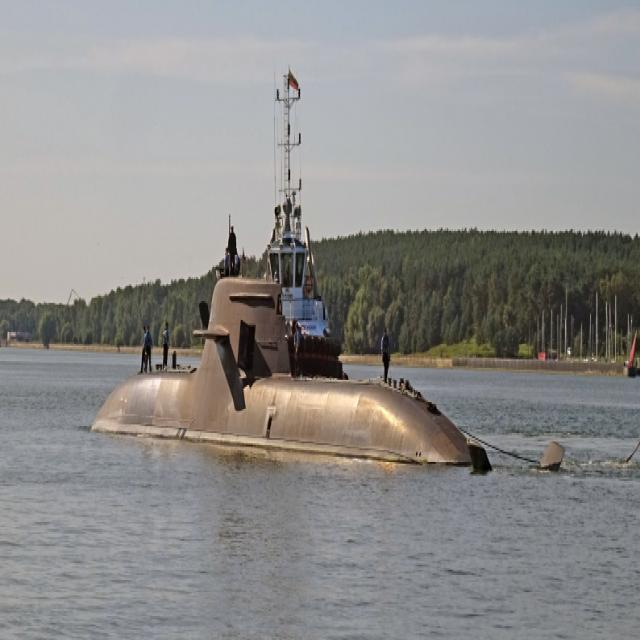submarine: (94, 277, 564, 477)
